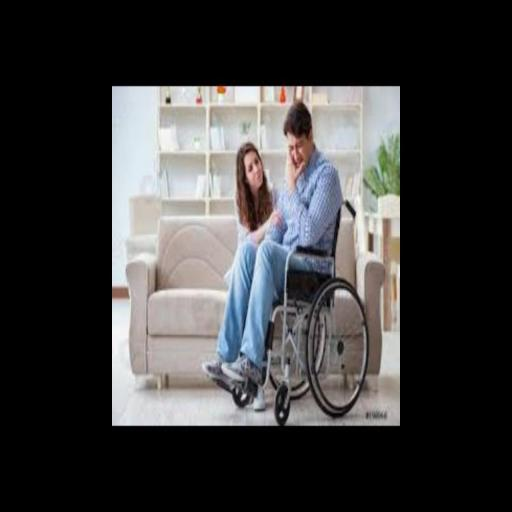cadeira_de_rodas: (230, 102, 372, 424)
